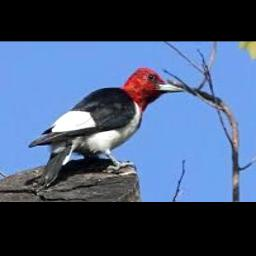Woodpecker: (29, 67, 185, 186)
